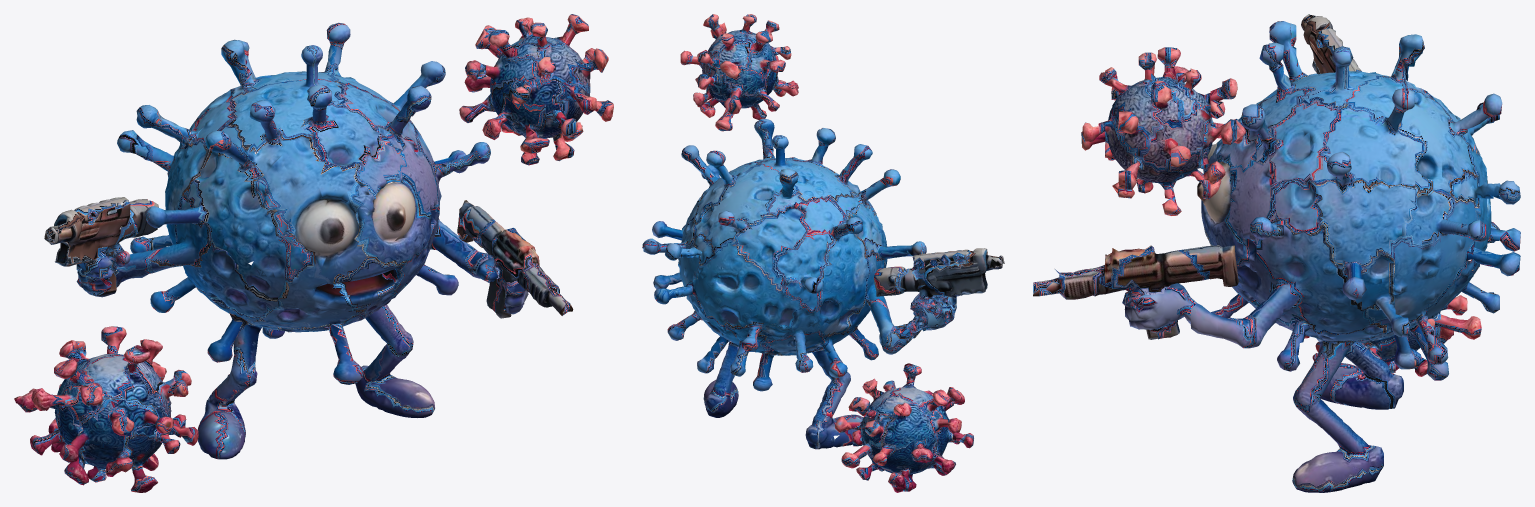
The model's file is virus_1.glb.
3 renders of one model, left to right at view 1: azimuth 30°, elevation 25°; view 2: azimuth 150°, elevation 25°; view 3: azimuth 270°, elevation 25°, orthographic. The views are drawn at different scales.
Visible parts, largest first — view 1: virus_1; view 2: virus_1; view 3: virus_1.
Boxes of the visible parts, x1,y1,x2,y2 form: virus_1: (14,14,613,492); virus_1: (642,14,1004,492); virus_1: (1033,14,1520,492).
Size of the model in its own units: 0.9987 by 0.9019 by 0.8257.
Materials: 1 (1 with a texture image).
